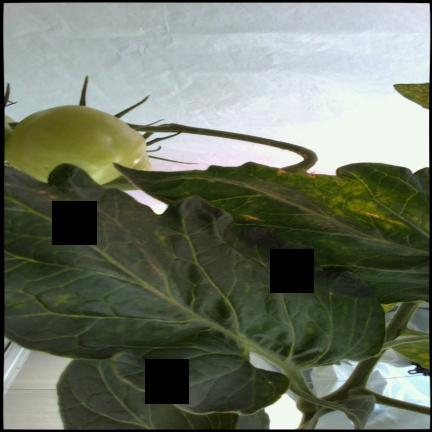tomato: (5, 105, 146, 184), (102, 155, 151, 191)
